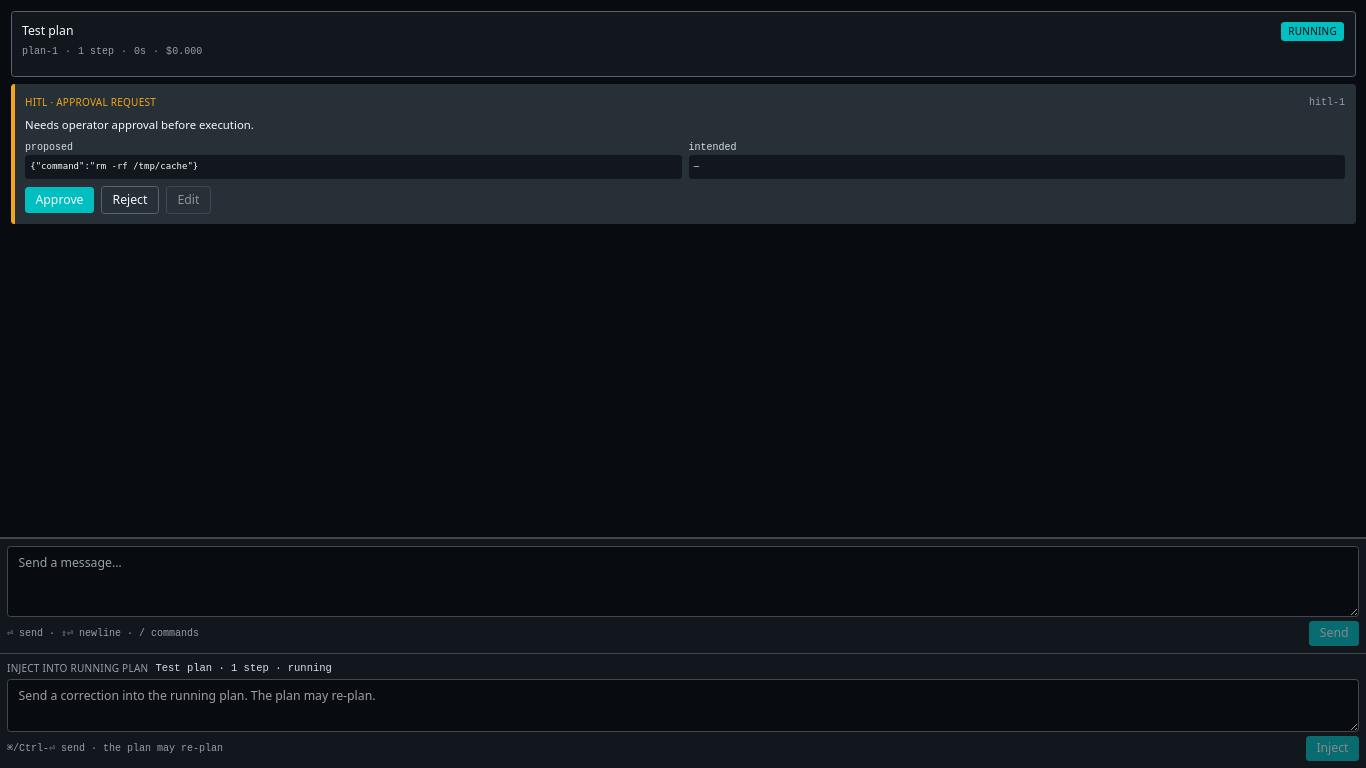
ChatSurface HITL › resets HITLInline to idle and renders no error on successful resolve
Click the button "Approve".
click(60, 200)  # box x1=25 y1=187 x2=94 y2=212
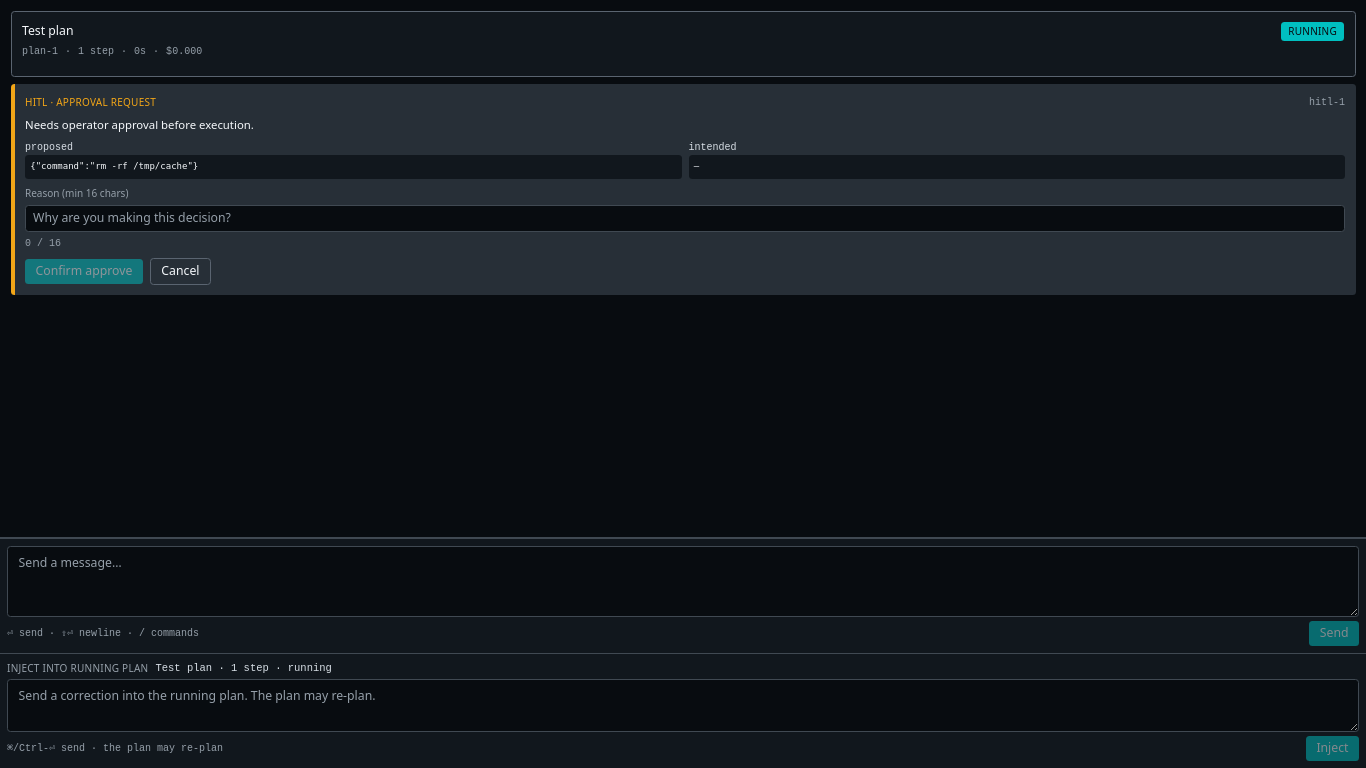
Type "this action is safe to proceed" into the field labelled "Reason (min 16 chars)".
click(685, 218); type("this action is safe to proceed")  # box x1=25 y1=205 x2=1345 y2=232
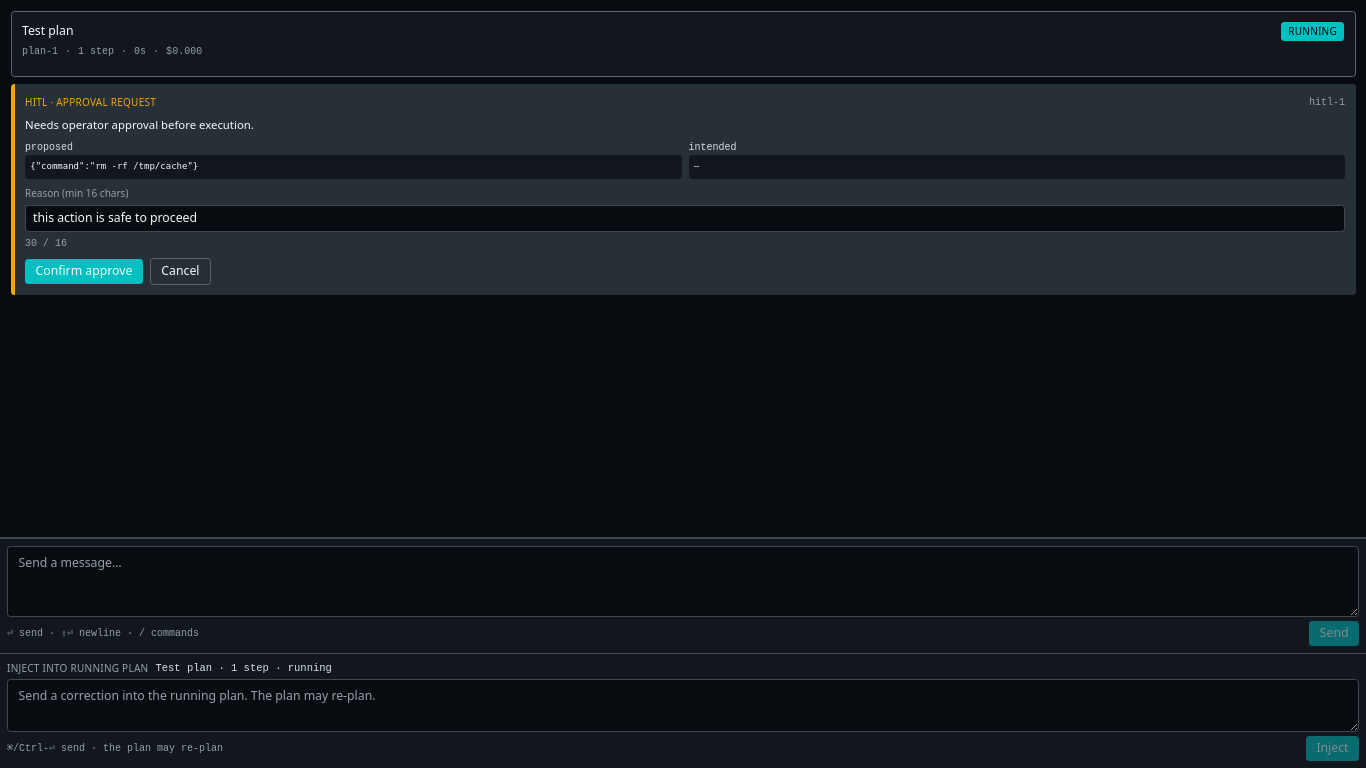
Click the button "Confirm approve".
click(84, 271)  # box x1=25 y1=258 x2=143 y2=284
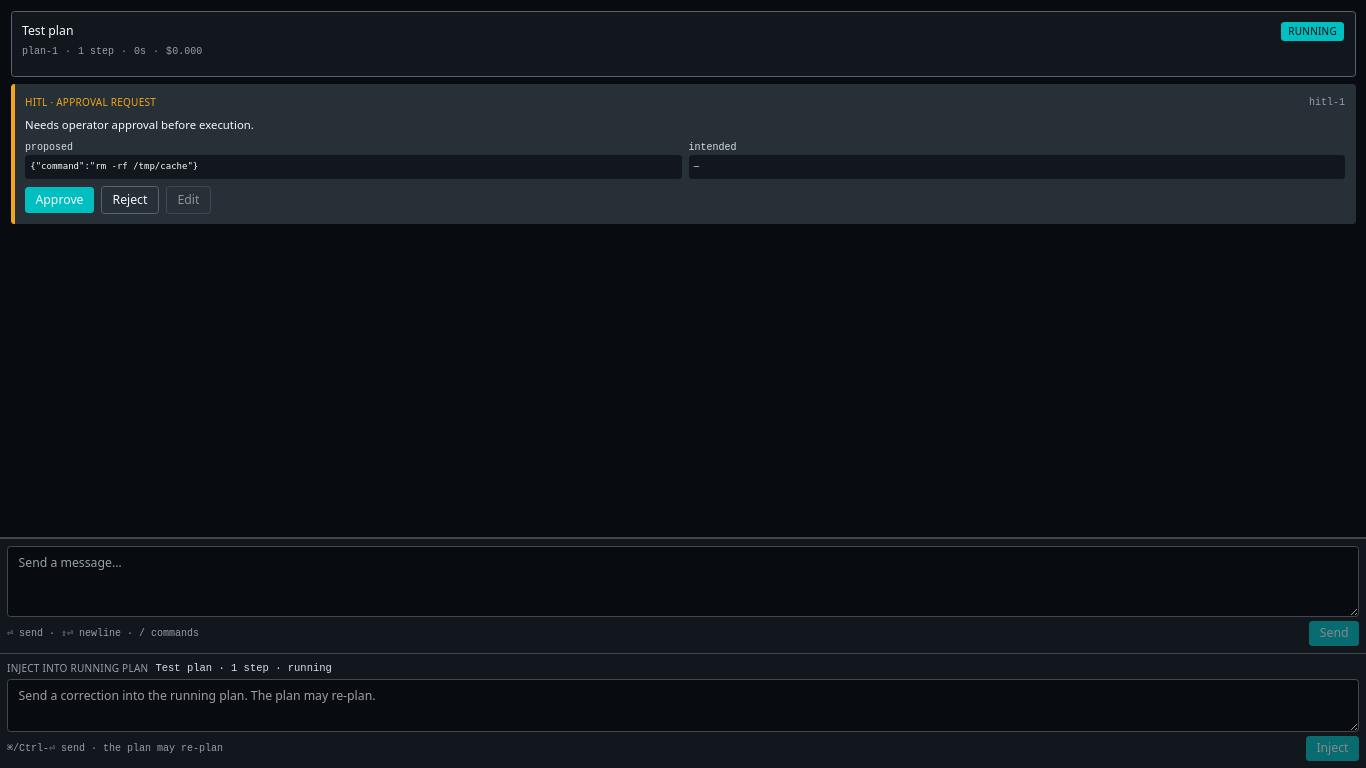
Expected: the button "Approve" is shown, x1=25 y1=187 x2=94 y2=212
Now the label labelled "Reason" is gone
